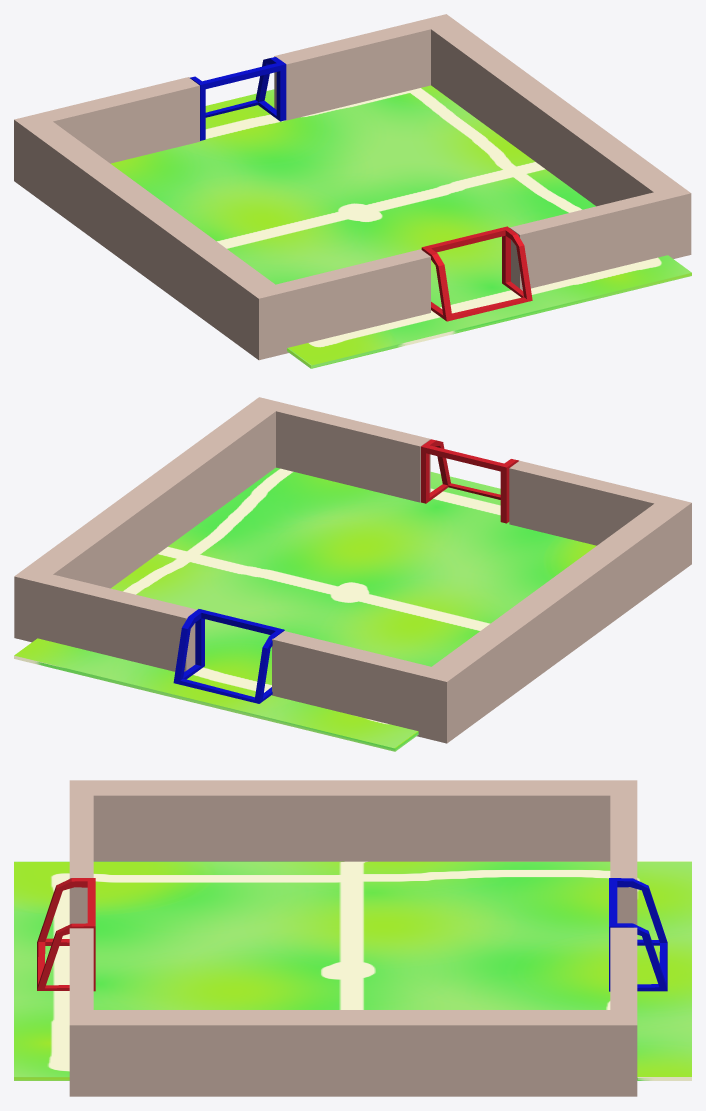
The model's file is soccer.glb.
3 views of the same model, one above another, from view 1: azimuth 30°, elevation 25°; view 2: azimuth 150°, elevation 25°; view 3: azimuth 270°, elevation 25° (orthographic). The views are drawn at different scales.
Parts seen in each view (by area): view 1: edge, ground, red_goal, blue_goal; view 2: edge, ground, blue_goal, red_goal; view 3: edge, ground, red_goal, blue_goal.
Boxes of the visible parts, left/top/right/bottom form: edge: left=14, top=14, right=691, bottom=360; ground: left=111, top=85, right=691, bottom=368; red_goal: left=421, top=226, right=532, bottom=321; blue_goal: left=190, top=57, right=286, bottom=140; edge: left=14, top=397, right=691, bottom=743; ground: left=14, top=467, right=596, bottom=751; blue_goal: left=173, top=609, right=284, bottom=703; red_goal: left=421, top=439, right=518, bottom=523; edge: left=69, top=780, right=637, bottom=1096; ground: left=14, top=861, right=691, bottom=1080; red_goal: left=37, top=878, right=95, bottom=991; blue_goal: left=609, top=878, right=667, bottom=991.
Bounding box in the file's own units: 31.89 × 4.4 × 37.34.
Materials: 4 (1 with a texture image).
